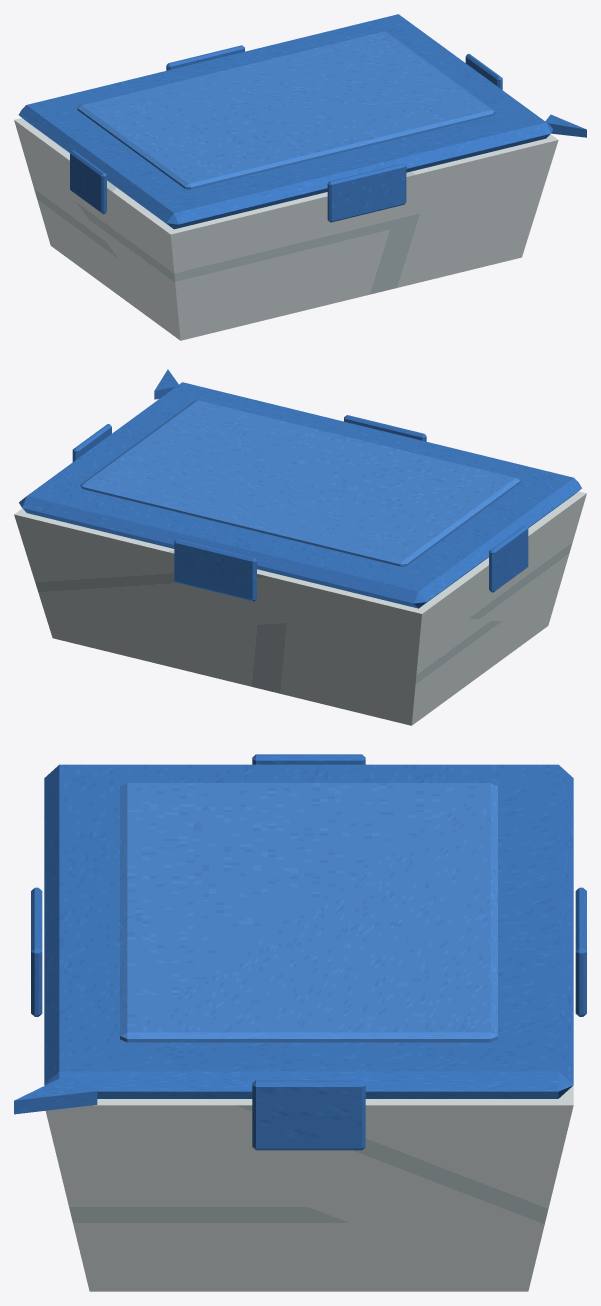
Rendered from bowl_plastic.glb.
The picture shows the model from 3 angles, top to bottom: view 1: azimuth 30°, elevation 25°; view 2: azimuth 150°, elevation 25°; view 3: azimuth 270°, elevation 25°; orthographic projection. The views are drawn at different scales.
Visible parts, largest first — view 1: block_tub, block_panel, block_lid, block_clip00.072, block_clip-0.1020, block_clip0-0.072, block_tab, block_clip0.1020; view 2: block_tub, block_panel, block_lid, block_clip0-0.072, block_clip-0.1020, block_clip00.072, block_clip0.1020; view 3: block_panel, block_tub, block_lid, block_clip0.1020, block_tab, block_clip0-0.072, block_clip00.072, block_clip-0.1020.
Part boxes in pixels (left/top/right/bottom): block_tub: left=14, top=118, right=558, bottom=340; block_panel: left=77, top=31, right=495, bottom=189; block_lid: left=18, top=14, right=552, bottom=229; block_clip00.072: left=327, top=163, right=406, bottom=222; block_clip-0.1020: left=70, top=150, right=106, bottom=213; block_clip0-0.072: left=166, top=45, right=244, bottom=70; block_tab: left=545, top=114, right=586, bottom=137; block_clip0.1020: left=465, top=53, right=502, bottom=89; block_tub: left=14, top=491, right=586, bottom=725; block_panel: left=80, top=400, right=520, bottom=566; block_lid: left=19, top=382, right=581, bottom=608; block_clip0-0.072: left=174, top=539, right=256, bottom=601; block_clip-0.1020: left=489, top=525, right=528, bottom=592; block_clip00.072: left=344, top=415, right=426, bottom=441; block_clip0.1020: left=72, top=424, right=111, bottom=461; block_panel: left=120, top=783, right=497, bottom=1042; block_tub: left=44, top=1085, right=573, bottom=1291; block_lid: left=44, top=764, right=573, bottom=1098; block_clip0.1020: left=252, top=1080, right=365, bottom=1150; block_tab: left=14, top=1077, right=97, bottom=1114; block_clip0-0.072: left=575, top=887, right=586, bottom=1016; block_clip00.072: left=31, top=887, right=42, bottom=1016; block_clip-0.1020: left=252, top=754, right=365, bottom=764.
Bounding box in the file's own units: 0.2135 × 0.071 × 0.1515.
1 material, 1 textured.
